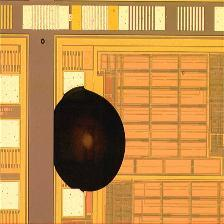PARTICLE: (40, 39, 131, 197)
